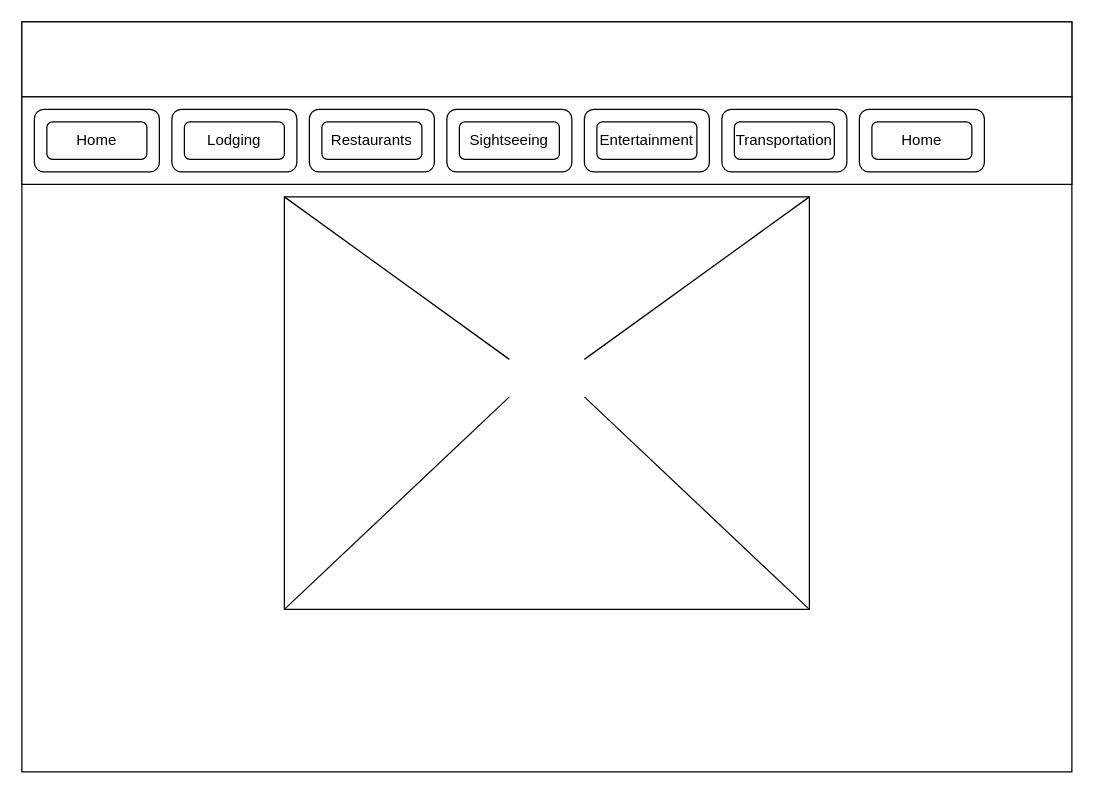
Some shapes in this 1094 by 794 pixel diagram are drawn without their labels. The shapes that lost their labels are listed below. From the top down, each one's centre as x and y in pixels, then its label:
At (546,59): "Welcome to the Island of Taniti!".
At (546,402): "Pic".
